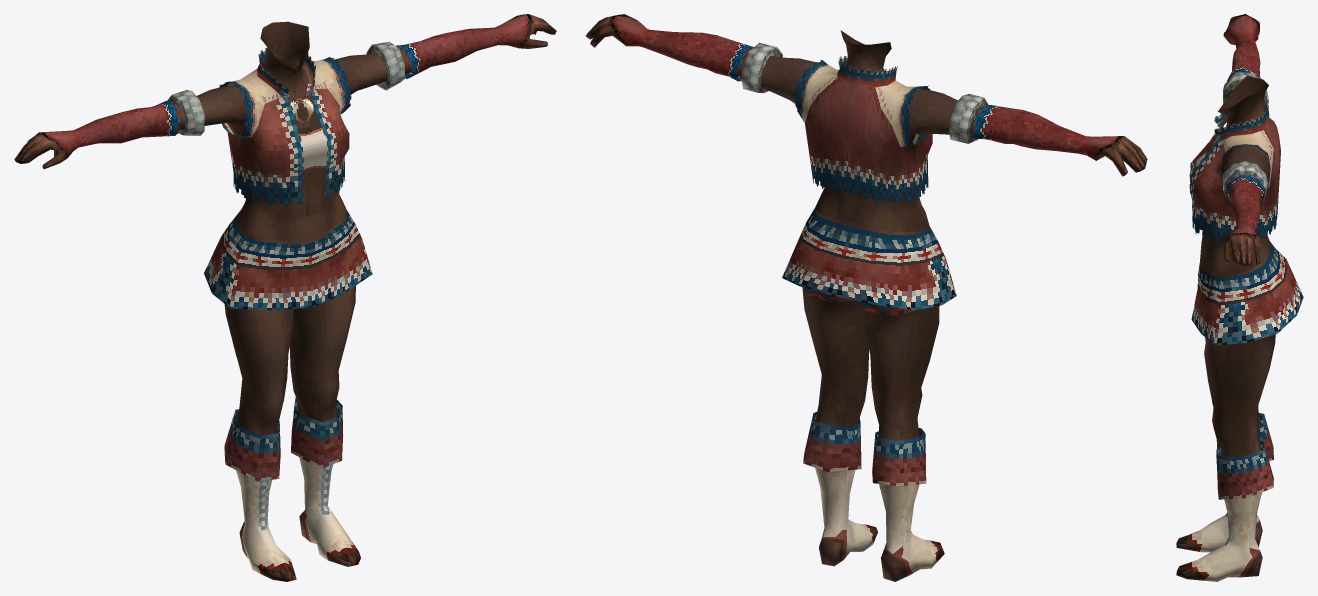
File: f_body003.obj
3 renders of one model, left to right at view 1: azimuth 30°, elevation 25°; view 2: azimuth 150°, elevation 25°; view 3: azimuth 270°, elevation 25°, orthographic. The views are drawn at different scales.
Visible parts, largest first — view 1: editpl_f-0000-23, editpl_f-0000-22, editpl_f-0000-21; view 2: editpl_f-0000-23, editpl_f-0000-22, editpl_f-0000-21; view 3: editpl_f-0000-23, editpl_f-0000-22, editpl_f-0000-21.
Boxes of the visible parts, x1,y1,x2,y2 form: editpl_f-0000-23: (204,210,372,581); editpl_f-0000-22: (196,21,387,242); editpl_f-0000-21: (14,14,556,169); editpl_f-0000-23: (782,207,956,581); editpl_f-0000-22: (760,30,957,231); editpl_f-0000-21: (585,14,1147,176); editpl_f-0000-23: (1176,242,1303,581); editpl_f-0000-22: (1189,75,1280,275); editpl_f-0000-21: (1223,14,1268,266).
Bounding box in the file's own units: 173 × 159 × 38.54.
3 materials, 3 textured.
